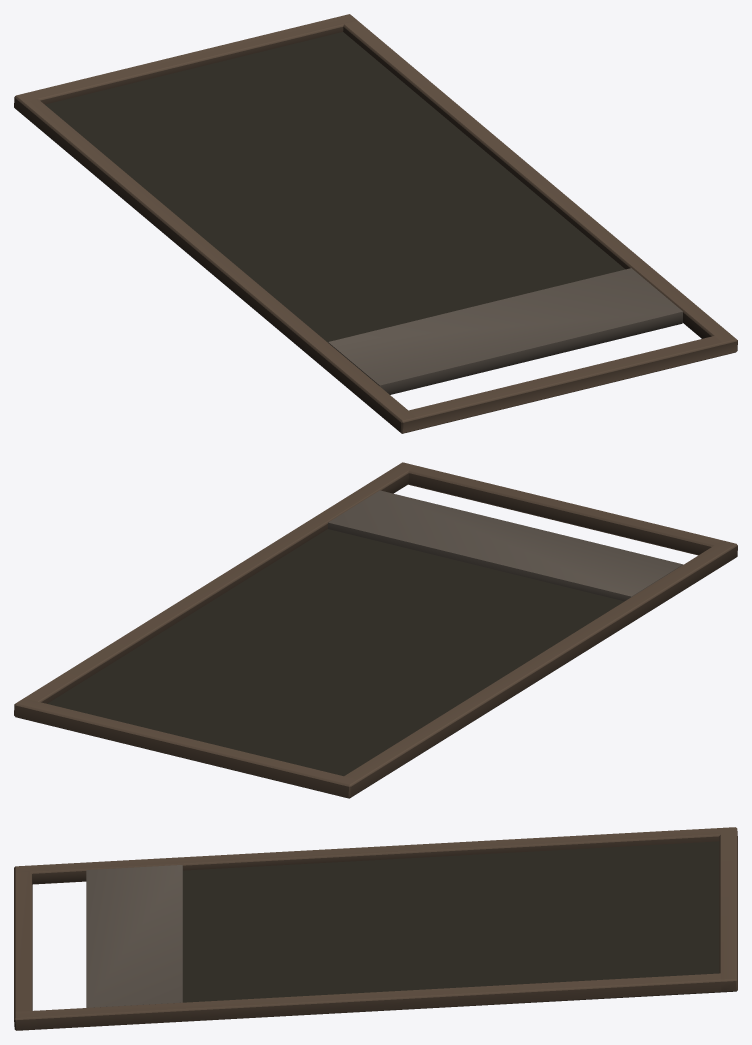
File: prop.door_fallen.mo.glb
3 renders of one model, top to bottom at view 1: azimuth 30°, elevation 25°; view 2: azimuth 150°, elevation 25°; view 3: azimuth 270°, elevation 25°, orthographic. The views are drawn at different scales.
Visible parts, largest first — view 1: LOD0; view 2: LOD0; view 3: LOD0.
Part boxes in pixels (x1,y1,x2,y2): LOD0: [14, 14, 737, 433]; LOD0: [14, 462, 737, 798]; LOD0: [14, 827, 737, 1030].
Size of what is drawn, in the model's own units: 0.9 by 0.1424 by 1.8.
